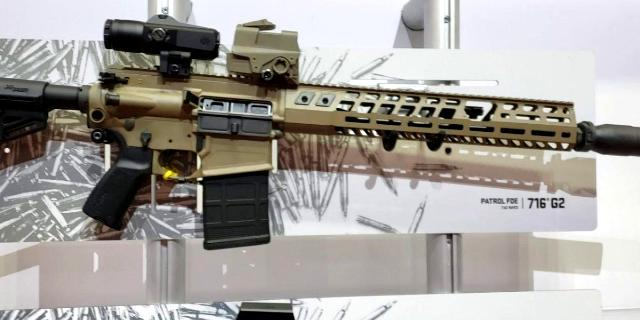rifle: (2, 4, 640, 256)
